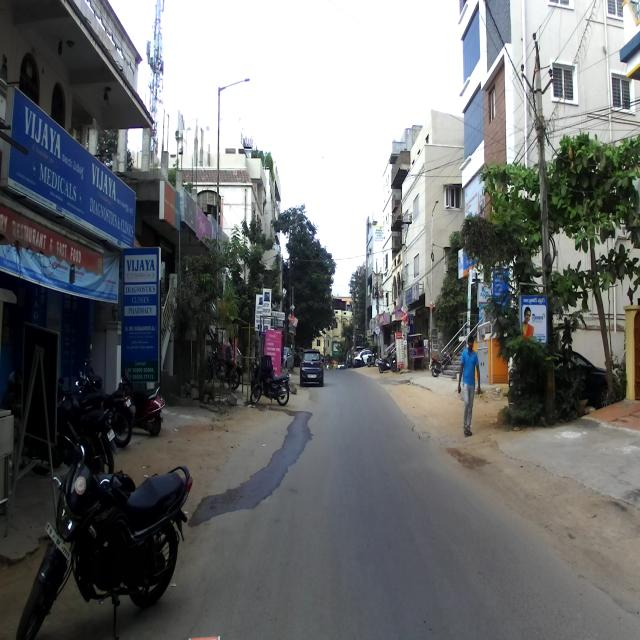electric pole ahead at: (519, 28, 576, 430)
motorcycle ahead at: (17, 432, 199, 638)
person ahead at: (457, 328, 482, 438)
